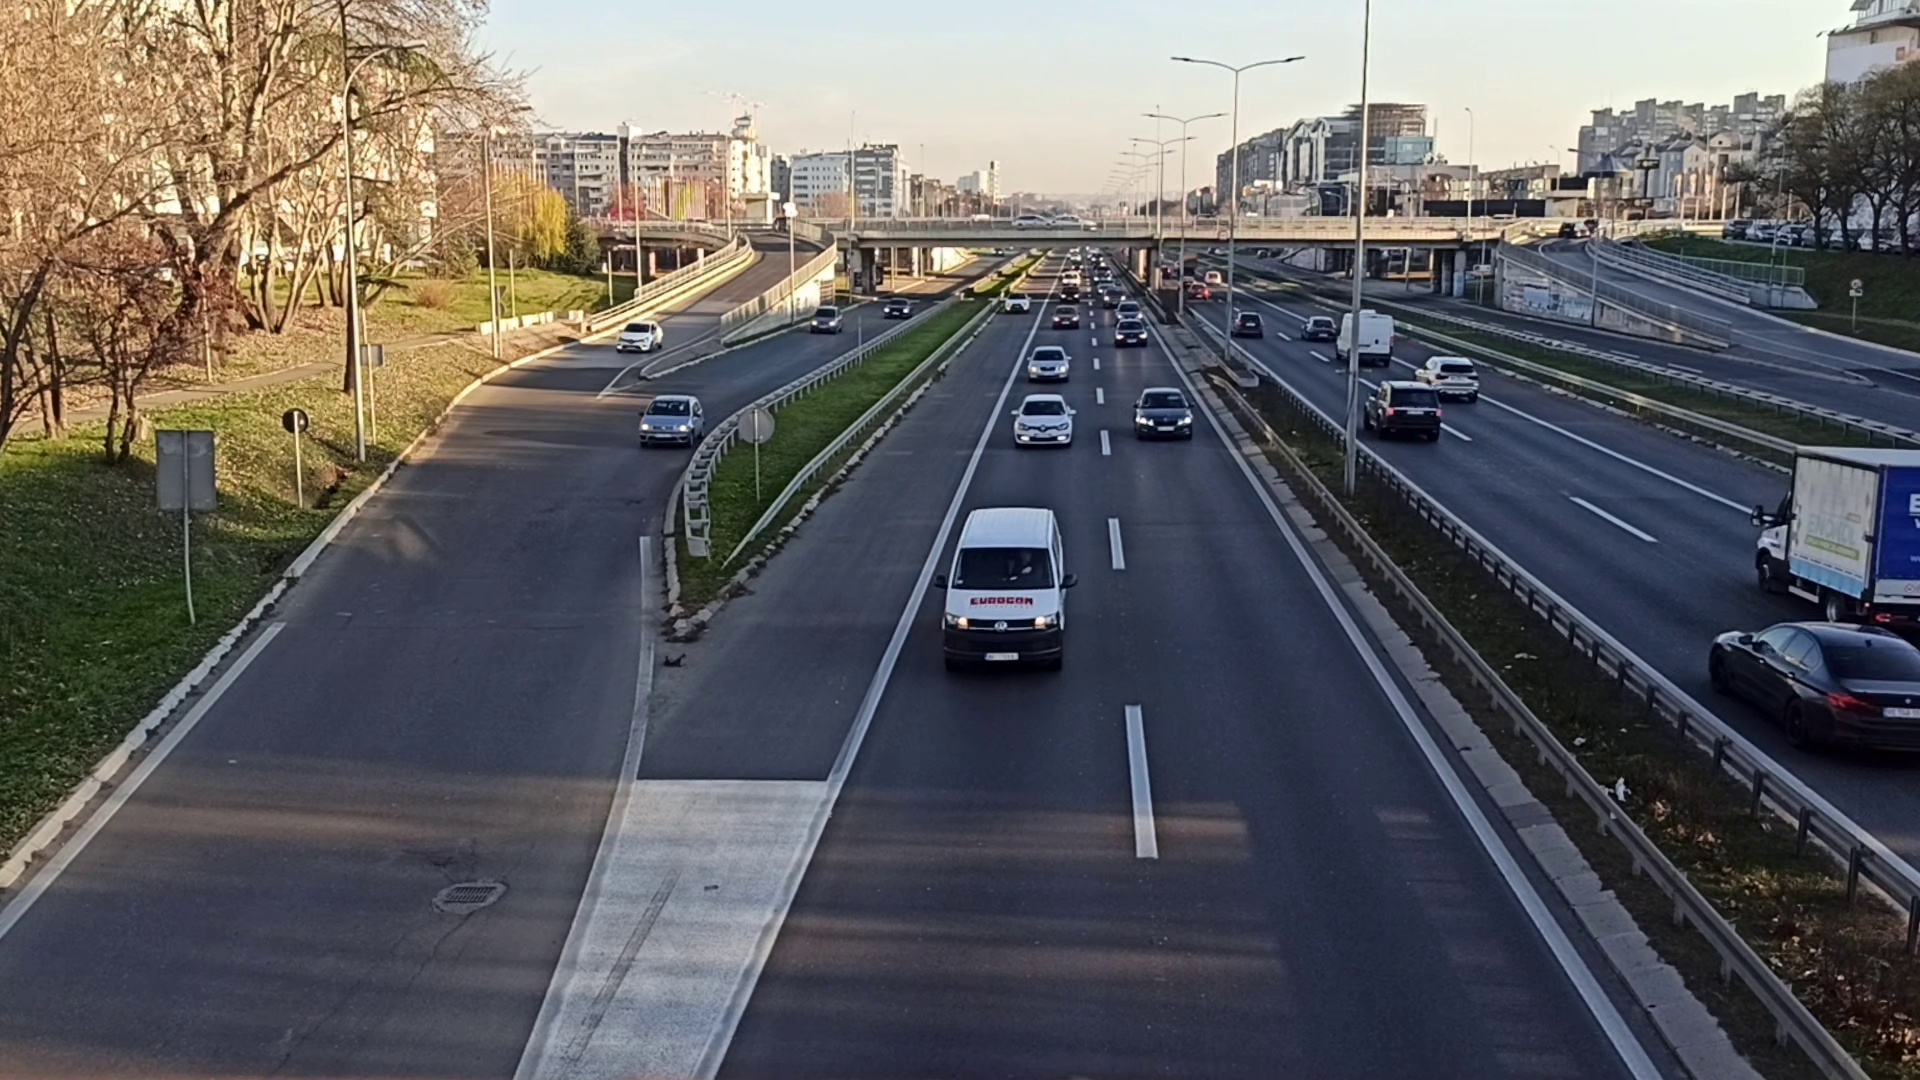car: (1710, 617, 1920, 750), (1362, 376, 1440, 434), (1131, 384, 1193, 438), (640, 396, 705, 446), (1015, 392, 1073, 448), (1418, 355, 1480, 401), (617, 316, 661, 351), (1029, 345, 1068, 378), (1113, 319, 1149, 347), (810, 307, 843, 330), (1233, 311, 1262, 336), (1051, 305, 1079, 328), (1303, 318, 1336, 338), (1004, 291, 1029, 314), (884, 298, 913, 316)
van: (1753, 443, 1920, 626), (942, 506, 1069, 674), (1337, 307, 1390, 359)
